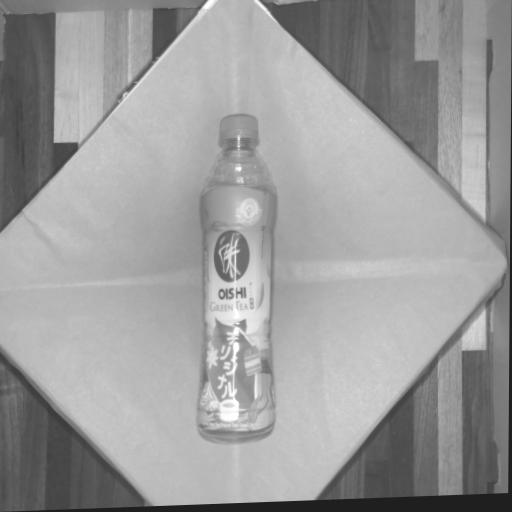bottle: (175, 99, 296, 455)
